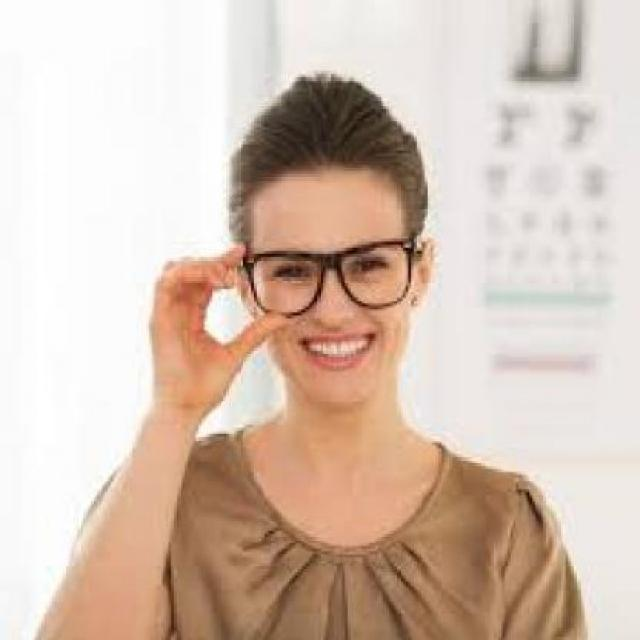glasses: (240, 236, 422, 322)
